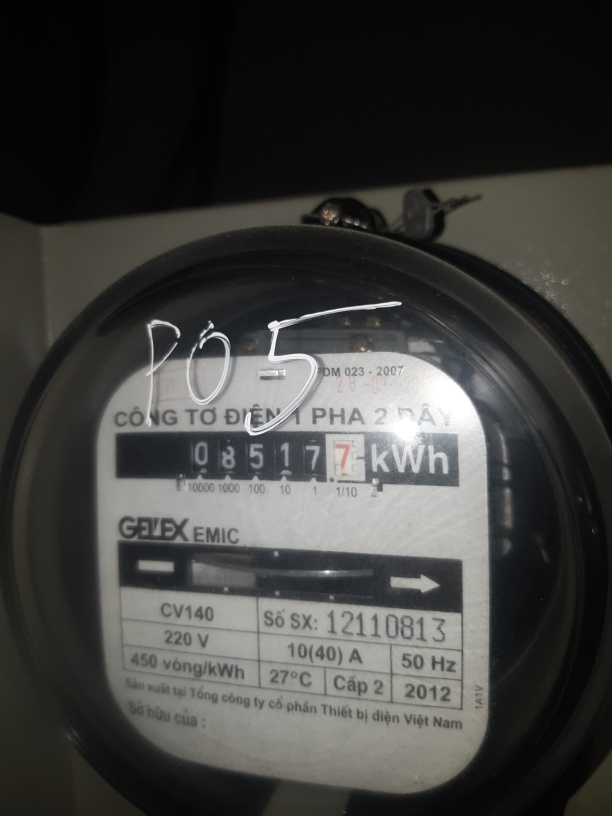counter: (112, 432, 458, 487)
electricity_meter: (19, 232, 601, 801)
